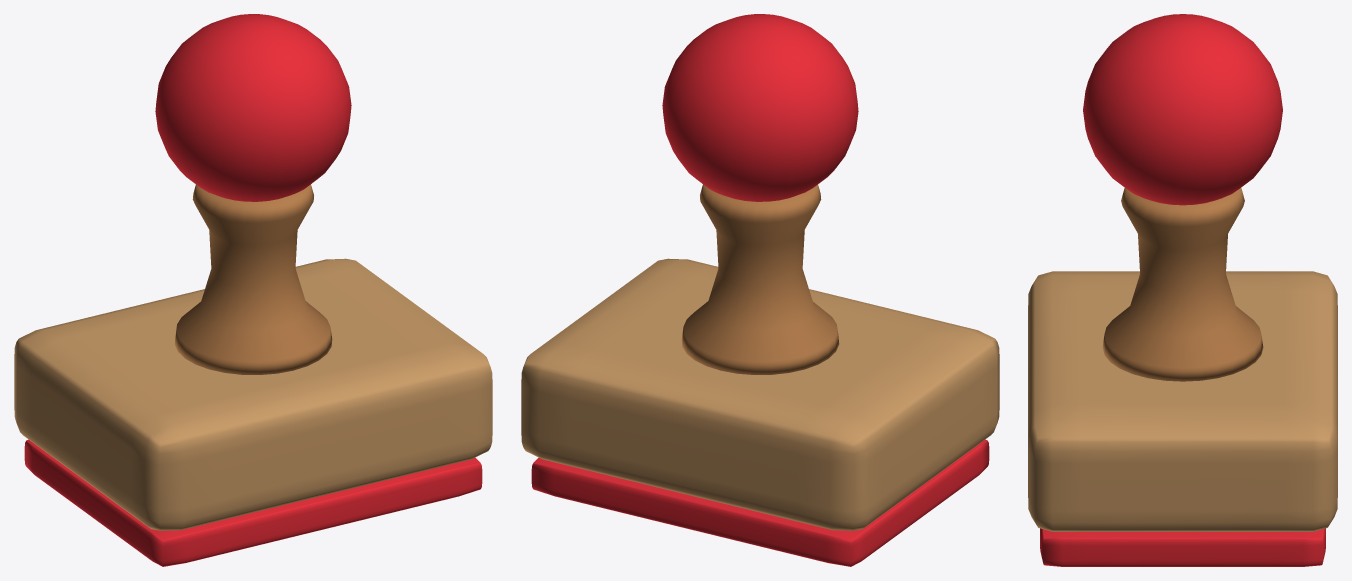
The model's file is StampOutBigStamp.obj.
3 views of the same model, side by side, from view 1: azimuth 30°, elevation 25°; view 2: azimuth 150°, elevation 25°; view 3: azimuth 270°, elevation 25° (orthographic).
Visible parts, largest first — view 1: Block, Knob, Handle, Rubber; view 2: Block, Knob, Handle, Rubber; view 3: Block, Knob, Handle, Rubber.
Boxes of the visible parts, x1=… form: Block: x1=14, y1=258, x2=492, y2=530; Knob: x1=155, y1=14, x2=351, y2=201; Handle: x1=174, y1=184, x2=332, y2=374; Rubber: x1=24, y1=439, x2=482, y2=566; Block: x1=521, y1=258, x2=999, y2=530; Knob: x1=662, y1=14, x2=858, y2=201; Handle: x1=681, y1=184, x2=839, y2=374; Rubber: x1=531, y1=439, x2=989, y2=566; Block: x1=1028, y1=271, x2=1337, y2=531; Knob: x1=1083, y1=14, x2=1282, y2=205; Handle: x1=1102, y1=188, x2=1263, y2=381; Rubber: x1=1040, y1=528, x2=1325, y2=566.
Bounding box in the file's own units: 17 × 21.6 × 13.
